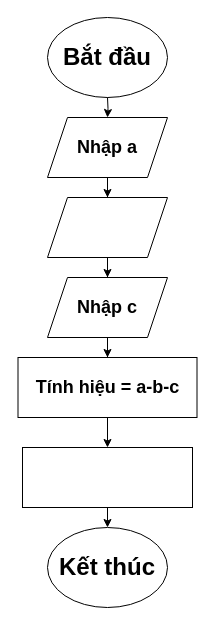
Image size: 214x625. Some labels were removed from this diagram. Here are the shapes that lost their labels. From the top down, the centre of each, then its label:
At point 107,227: "Nhập b".
At point 107,477: "Hiện hiệu".
